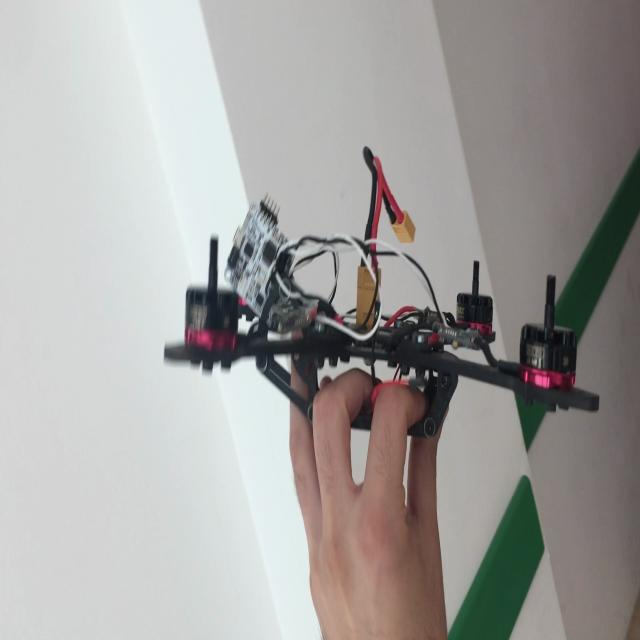drone: (154, 182, 607, 477)
